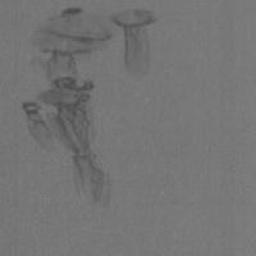Water spot: (19, 5, 160, 207)
